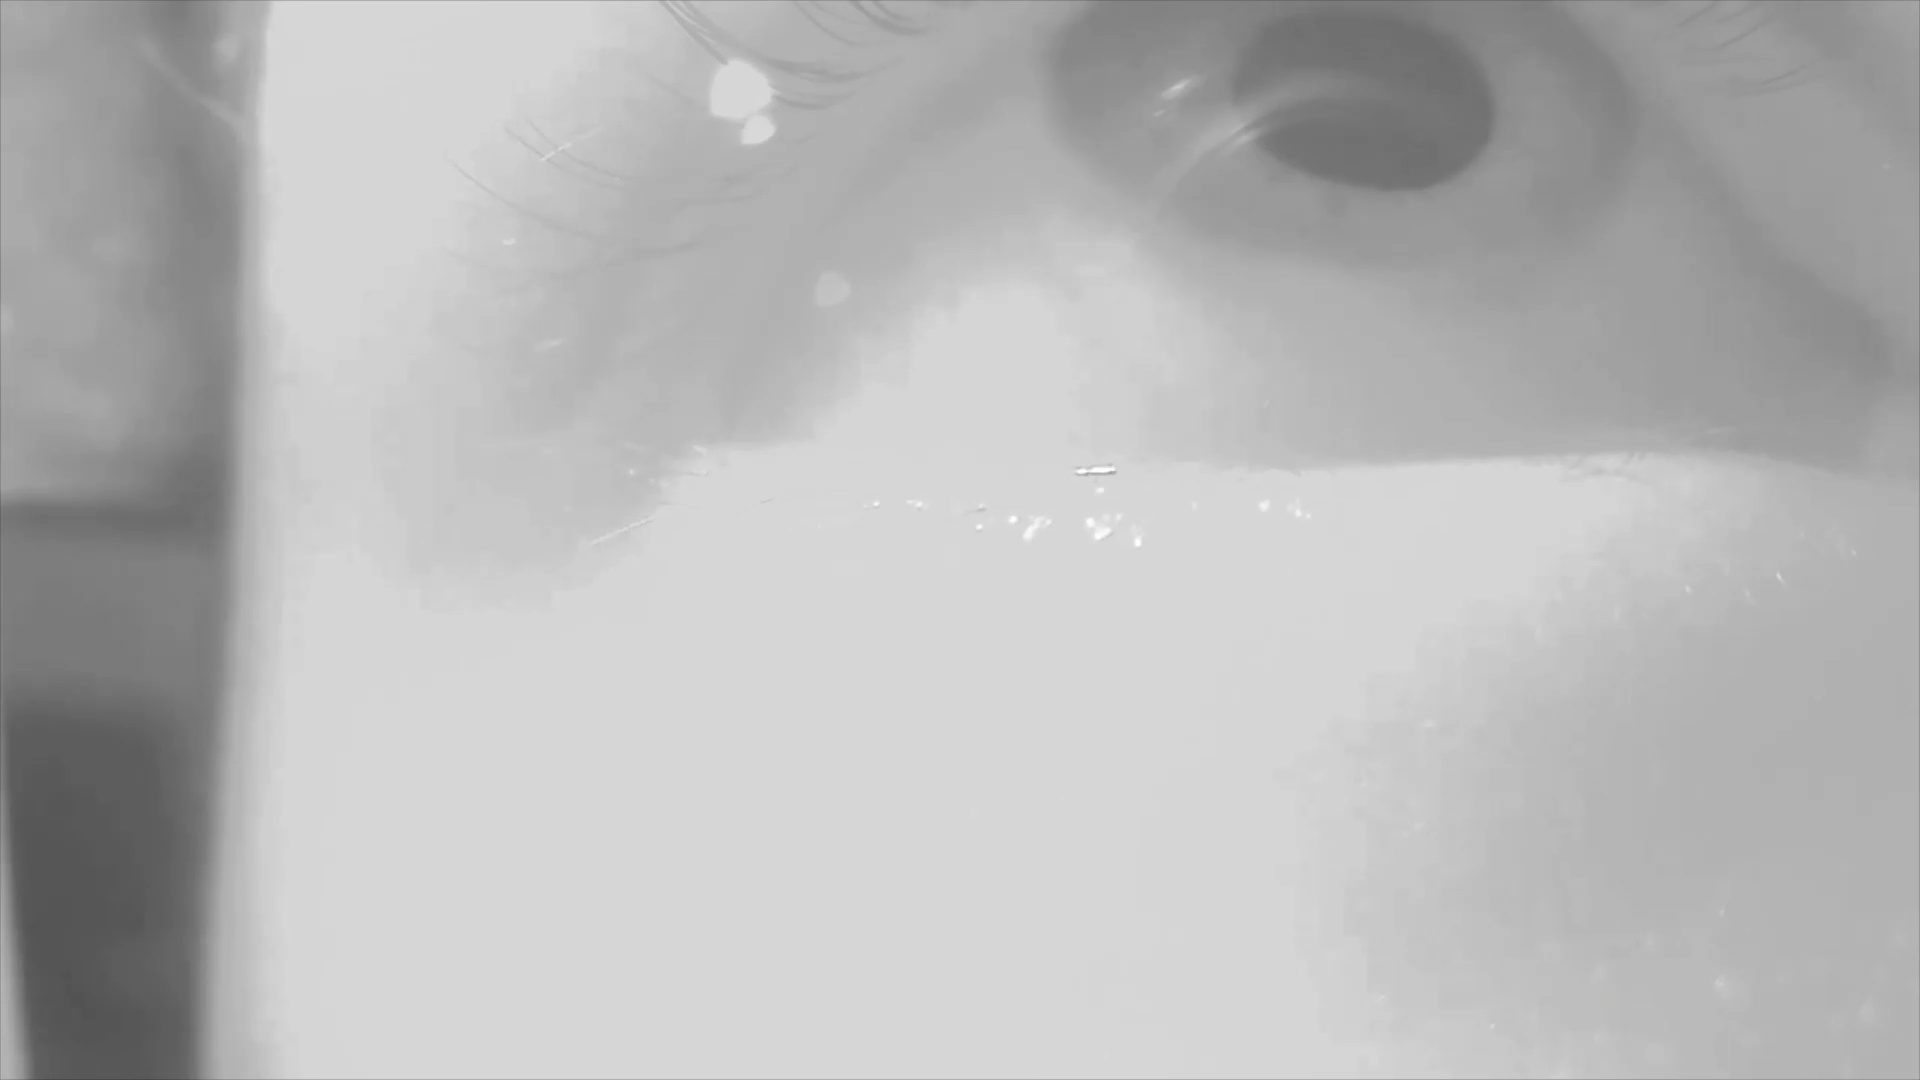pupil: (1231, 3, 1494, 196)
